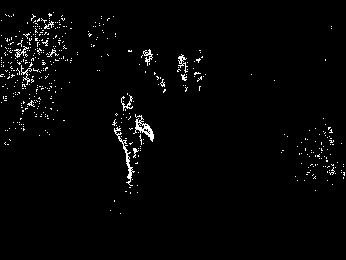person: (113, 93, 155, 189)
